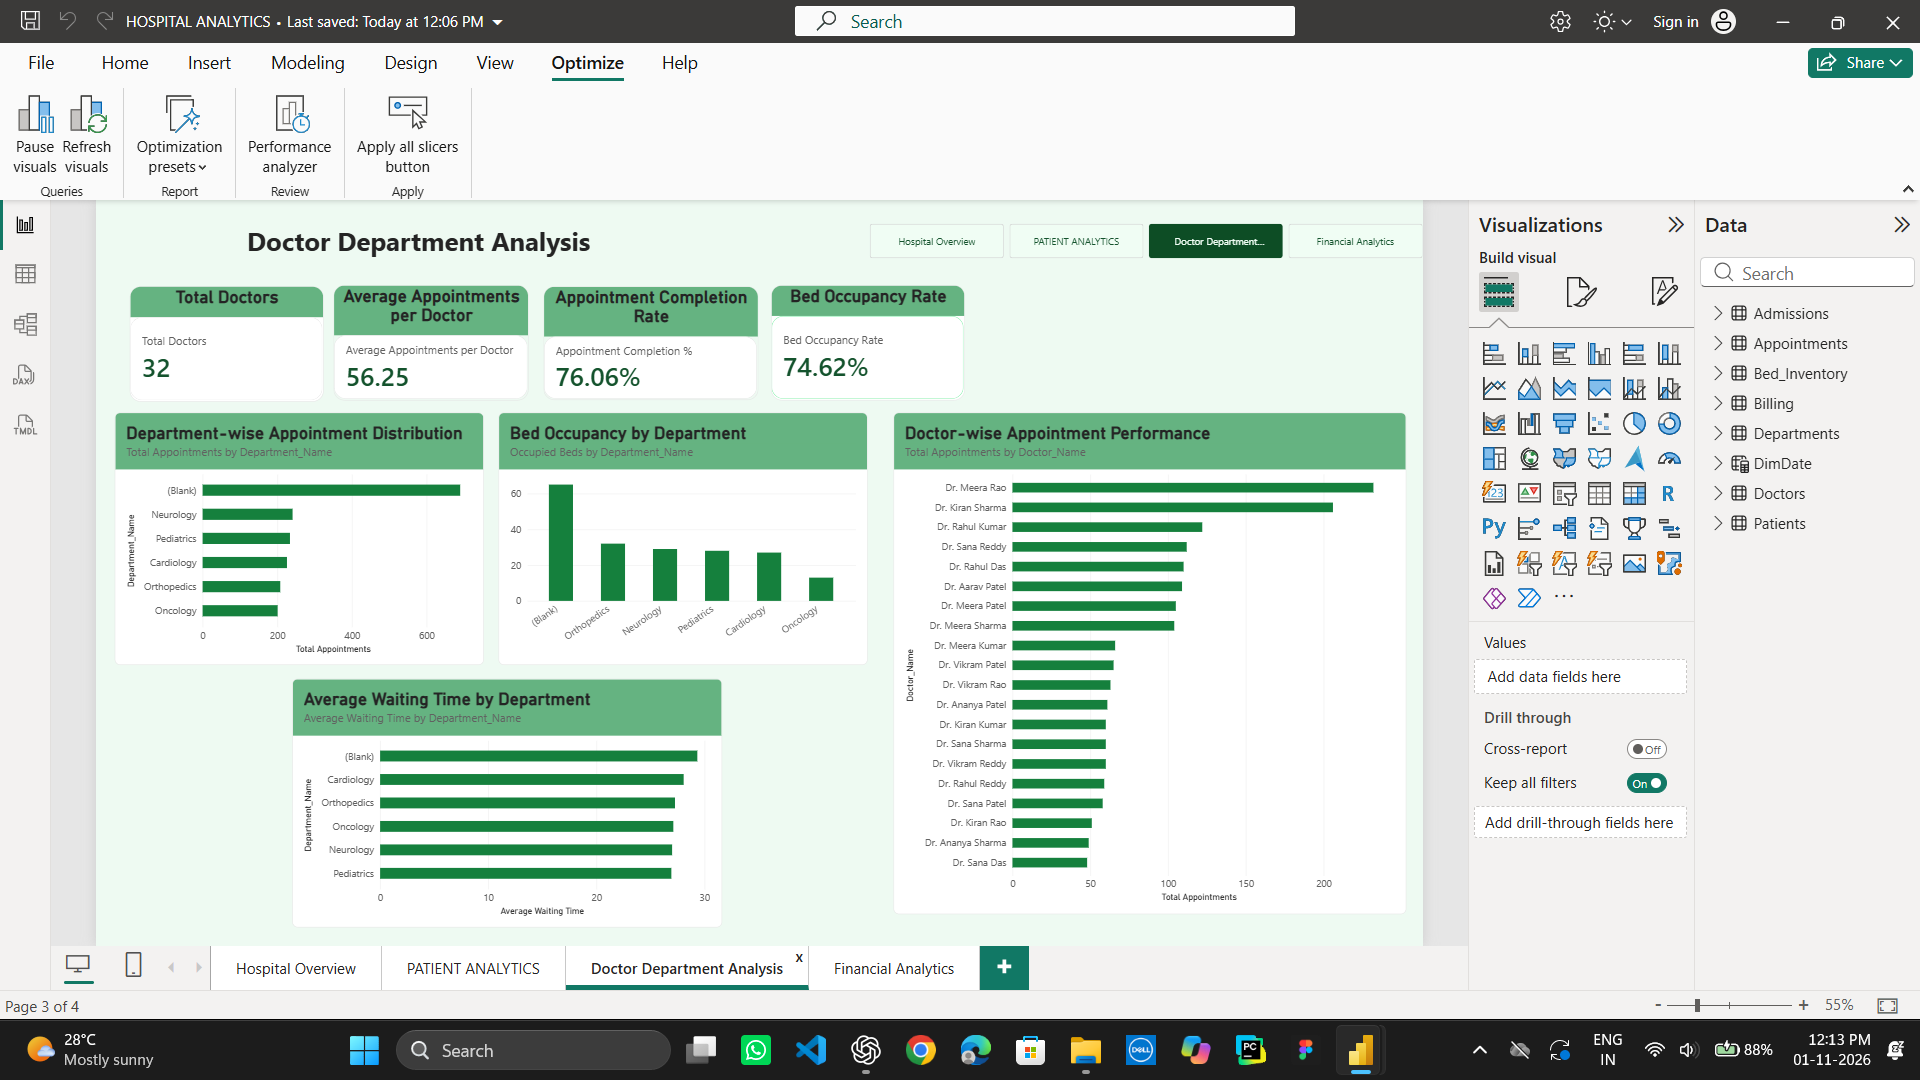

The page's visual inventory and layout, read from the dashboard file:
{"tool":"powerbi","page":{"name":"Doctor Department Analysis","canvas":[1920,1080],"ordinal":2},"visuals":[{"type":"cardVisual","title":"Total Doctors","fields":{"Data":["Doctors.Total Doctors"]},"box":[48,124,280.6,166.9],"z":0},{"type":"cardVisual","title":"Average Appointments per Doctor","fields":{"Data":["Appointments.Average Appointments per Doctor"]},"box":[343.2,123.2,282.5,166.9],"z":1000},{"type":"cardVisual","title":"Appointment Completion Rate","fields":{"Data":["Appointments.Appointment Completion %"]},"box":[648.5,125.1,311,165],"z":2000},{"type":"cardVisual","title":"Bed Occupancy Rate","fields":{"Data":["Bed_Inventory.Bed Occupancy Rate"]},"box":[976.5,123.2,280.6,166.9],"z":3000},{"type":"clusteredBarChart","title":"Department-wise Appointment Distribution","fields":{"Category":["Departments.Department_Name"],"Y":["Appointments.Total Appointments"]},"box":[26.5,307.2,534.7,366],"z":4000},{"type":"clusteredBarChart","title":"Doctor-wise Appointment Performance","fields":{"Category":["Doctors.Doctor_Name"],"Y":["Appointments.Total Appointments"]},"box":[1154,308,742,726],"z":5000},{"type":"clusteredColumnChart","title":"Bed Occupancy by Department","fields":{"Category":["Departments.Department_Name"],"Y":["Bed_Inventory.Occupied Beds"]},"box":[582.1,307.2,534.7,366],"z":6000},{"type":"clusteredBarChart","title":"Average Waiting Time by Department","fields":{"Category":["Departments.Department_Name"],"Y":["Appointments.Average Waiting Time"]},"box":[284,694,622,360],"z":7000},{"type":"textbox","box":[0,34,934,62],"z":8000},{"type":"pageNavigator","box":[1120,34,800,50],"z":8001}]}

Visuals, with their boxes on the page's 1920x1080 design canvas (x1, y1, x2, y2). These are canvas units, not pixel positions in the 1920x1080 screenshot, which may show the page scaled, cropped or inside an application window:
"Total Doctors" cardVisual: bbox=(48, 124, 329, 291)
"Average Appointments per Doctor" cardVisual: bbox=(343, 123, 626, 290)
"Appointment Completion Rate" cardVisual: bbox=(648, 125, 960, 290)
"Bed Occupancy Rate" cardVisual: bbox=(976, 123, 1257, 290)
"Department-wise Appointment Distribution" clusteredBarChart: bbox=(26, 307, 561, 673)
"Doctor-wise Appointment Performance" clusteredBarChart: bbox=(1154, 308, 1896, 1034)
"Bed Occupancy by Department" clusteredColumnChart: bbox=(582, 307, 1117, 673)
"Average Waiting Time by Department" clusteredBarChart: bbox=(284, 694, 906, 1054)
textbox: bbox=(0, 34, 934, 96)
pageNavigator: bbox=(1120, 34, 1920, 84)
